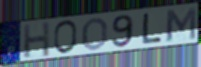9: (111, 13, 136, 49)
H: (22, 20, 51, 60)
L: (141, 12, 163, 45)
M: (164, 6, 198, 43)
O: (81, 16, 109, 51), (53, 19, 79, 55)
